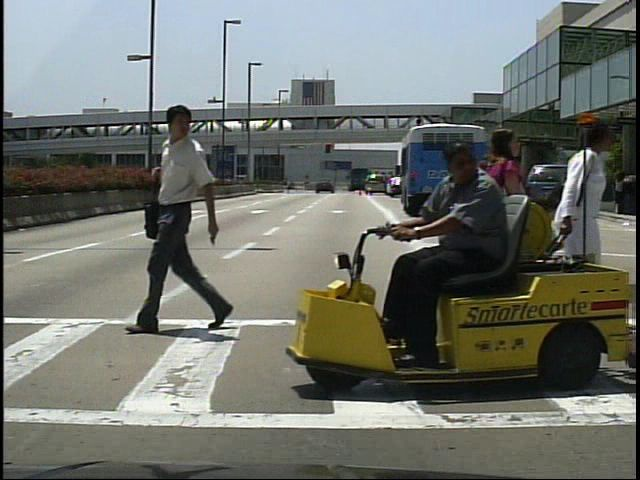person: (384, 139, 517, 368), (125, 99, 226, 330), (539, 111, 616, 367), (458, 124, 525, 357), (520, 191, 557, 328), (581, 167, 602, 217), (501, 166, 519, 218), (487, 163, 506, 212)
